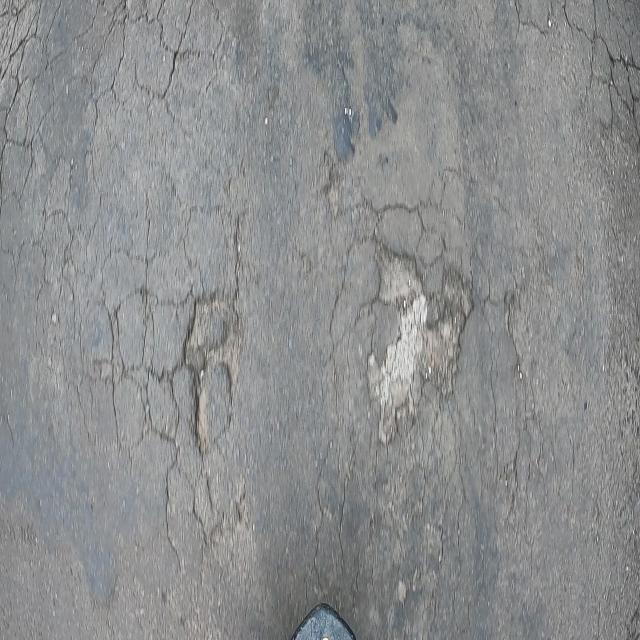Lubang: (368, 244, 472, 444)
